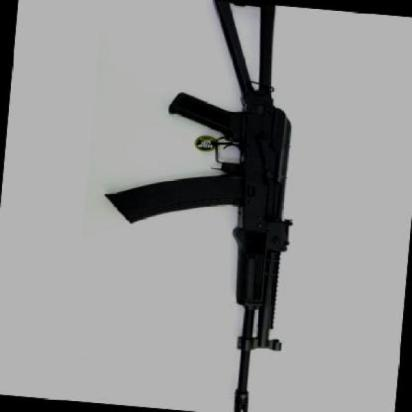Gun: (84, 0, 360, 412)
